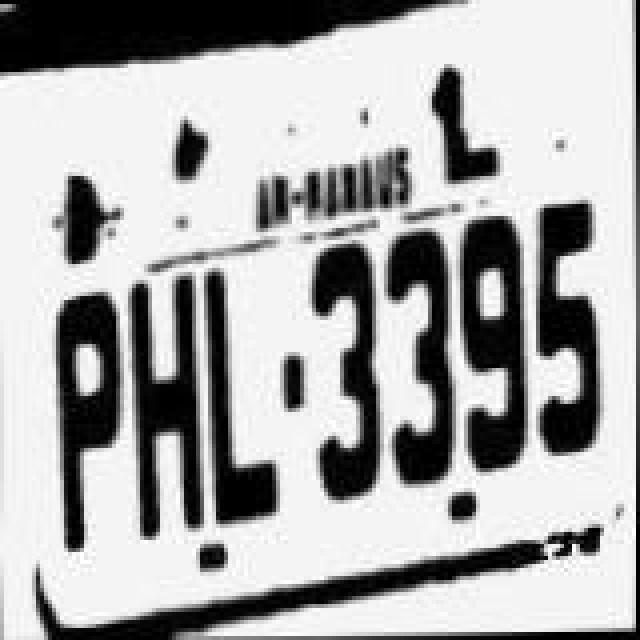3: (306, 246, 390, 566), (376, 232, 460, 496)
5: (524, 194, 624, 486)
9: (452, 216, 536, 492)
H: (126, 276, 210, 544)
L: (206, 266, 290, 534)
P: (32, 284, 128, 556)
